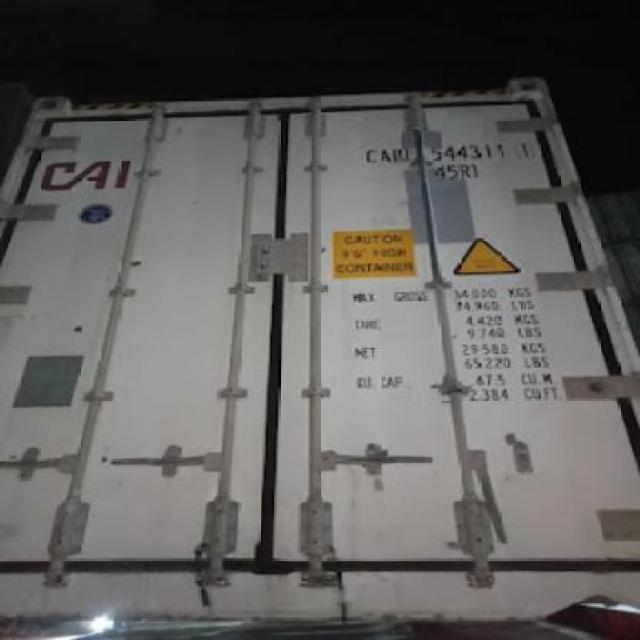ISO: (431, 164, 480, 182)
container_number: (366, 134, 534, 164)
